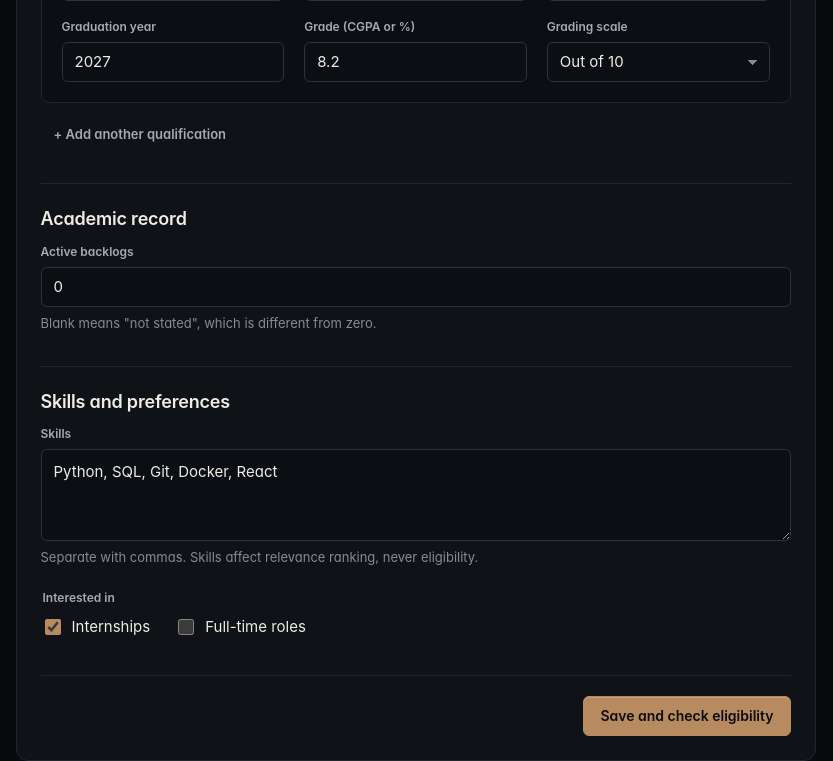
profile save button › shows a busy state and cannot submit twice
Later steps or results of the test are not shown.
(page scrolled)
Click the button "Save and check eligibility". click: [687, 716]
box: x1=583 y1=696 x2=790 y2=736
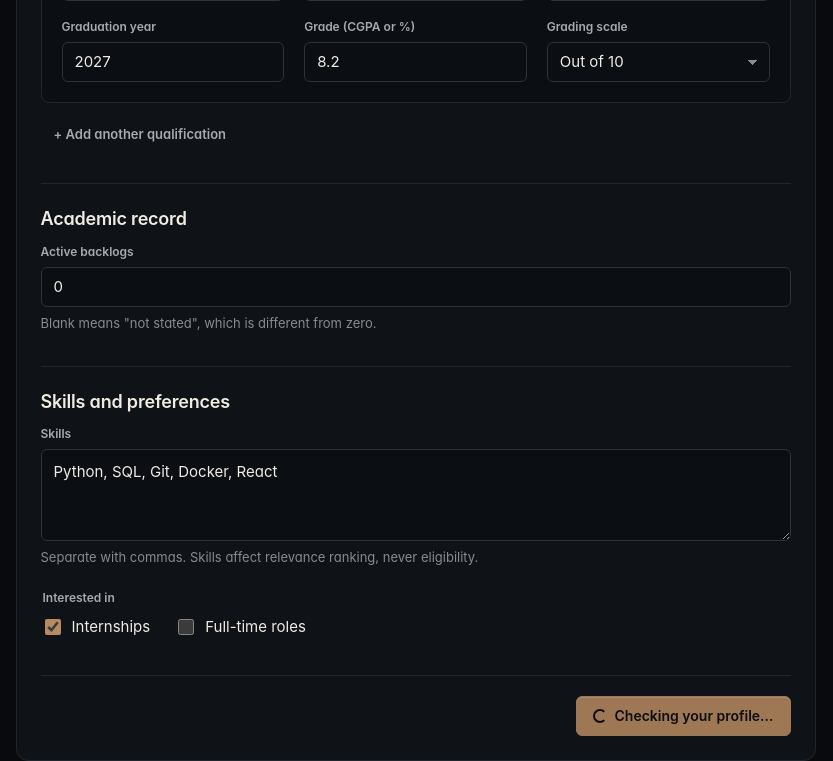
Expected: the button "Checking your profile…" is disabled, x1=576 y1=696 x2=790 y2=736
